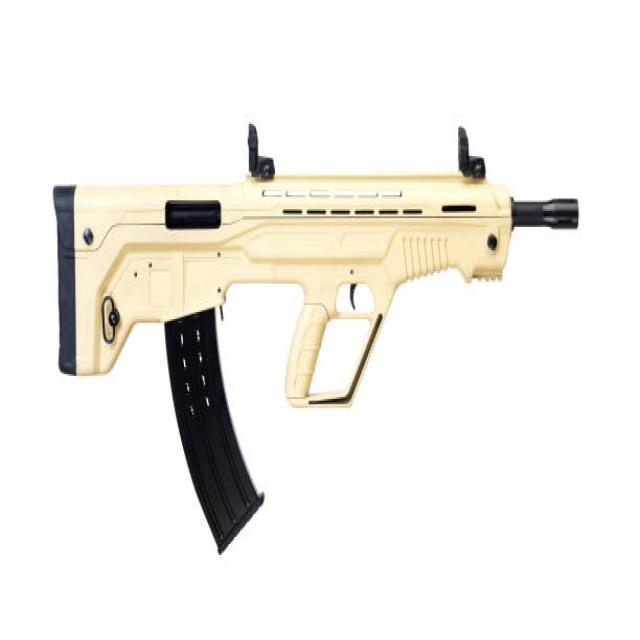rifle: (50, 102, 584, 562)
